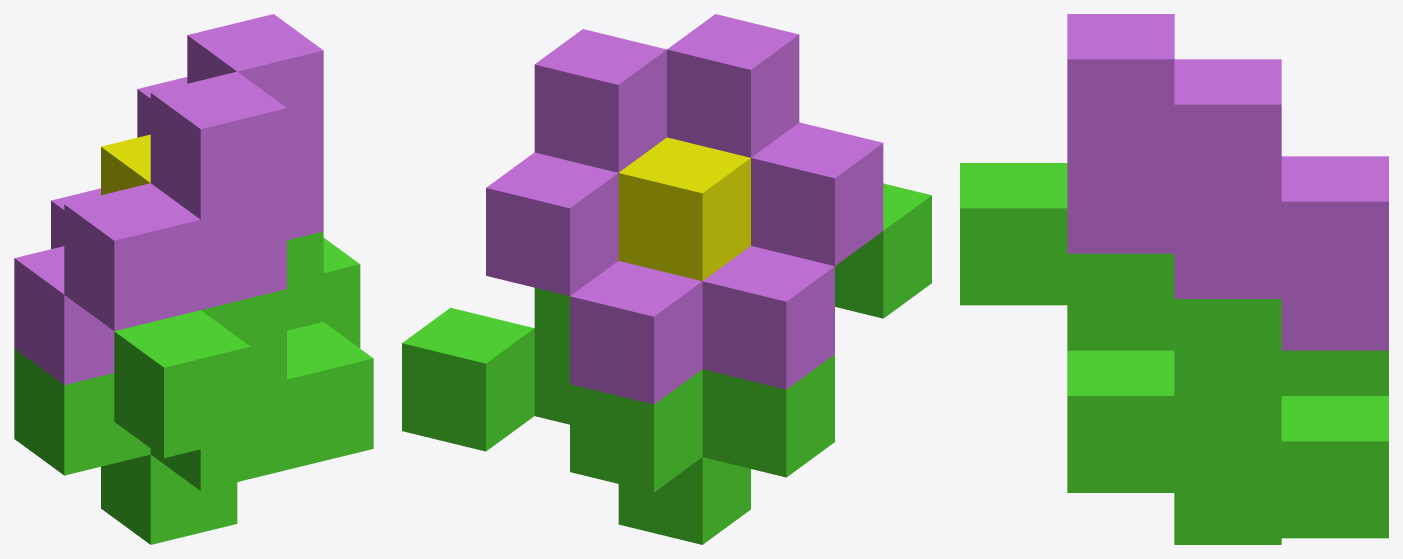
File: tile-62.obj
The picture shows the model from 3 angles, left to right: view 1: azimuth 30°, elevation 25°; view 2: azimuth 150°, elevation 25°; view 3: azimuth 270°, elevation 25°; orthographic projection. The views are drawn at different scales.
Size of the model in its own units: 0.4 by 0.5 by 0.4.
1 material, 1 textured.
